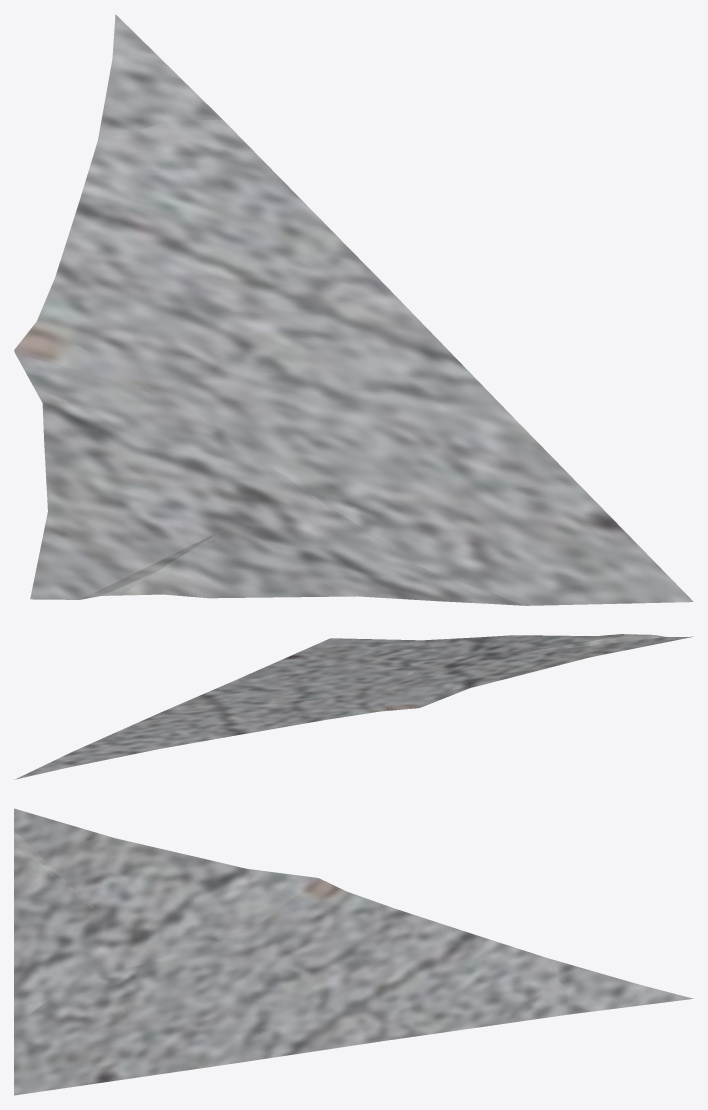
The picture shows the model from 3 angles, top to bottom: view 1: azimuth 30°, elevation 25°; view 2: azimuth 150°, elevation 25°; view 3: azimuth 270°, elevation 25°; orthographic projection. The views are drawn at different scales.
Bounding box in the file's own units: 0.9992 × 0.2367 × 1.51.
1 material, 1 textured.
